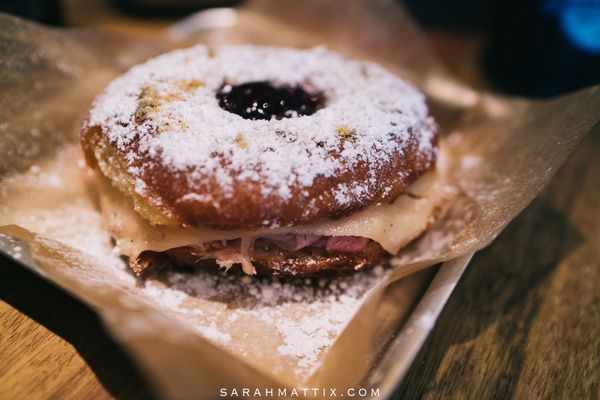soup: (70, 40, 575, 386)
